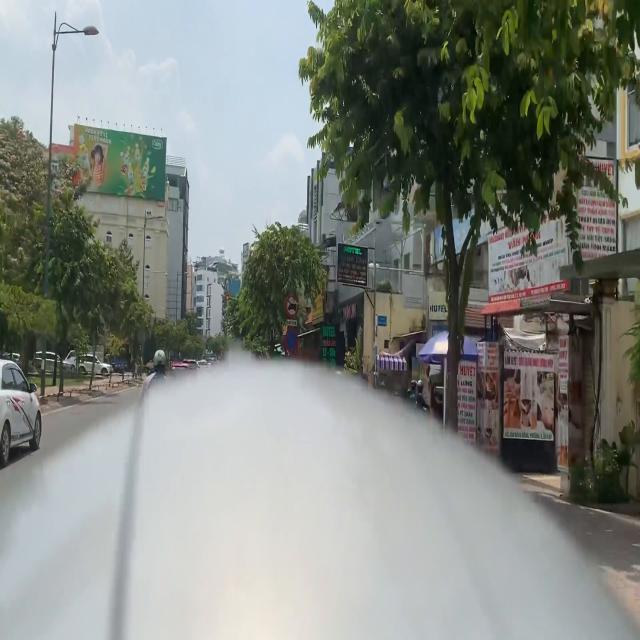Cam con lai: (285, 293, 299, 321)
Cam do: (285, 328, 299, 353)
